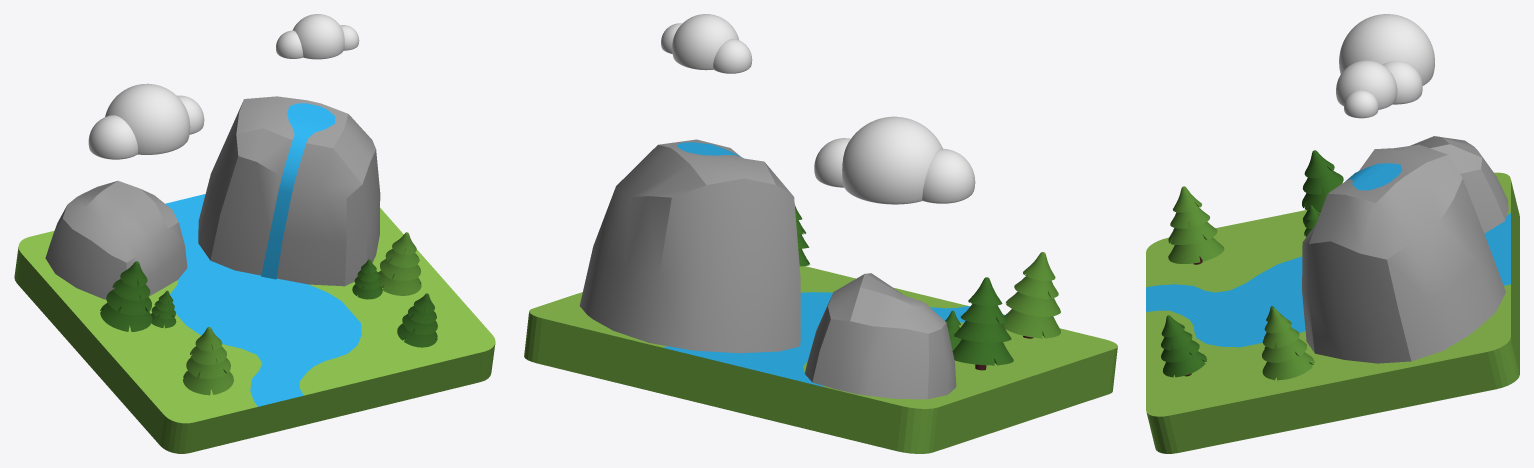
Rendered from national_park.glb.
The picture shows the model from 3 angles, left to right: view 1: azimuth 30°, elevation 25°; view 2: azimuth 150°, elevation 25°; view 3: azimuth 270°, elevation 25°; orthographic projection. The views are drawn at different scales.
Parts seen in each view (by area): view 1: Plane.225, Cube.463, Cube.464, Circle.2338, Circle.2341, Circle.2340, Circle.2342, Circle.2339, Circle.2337; view 2: Plane.225, Cube.463, Cube.464, Circle.2338, Circle.2341; view 3: Plane.225, Cube.463, Cube.464, Circle.2341, Circle.2340, Circle.2342, Circle.2338.
Boxes of the visible parts, box(x1,y1,x2,y2) form: Plane.225: box(14, 96, 495, 453); Cube.463: box(88, 83, 204, 159); Cube.464: box(276, 14, 359, 59); Circle.2338: box(100, 261, 152, 331); Circle.2341: box(183, 327, 233, 395); Circle.2340: box(378, 232, 421, 295); Circle.2342: box(397, 293, 437, 347); Circle.2339: box(352, 259, 382, 299); Circle.2337: box(151, 290, 176, 328); Plane.225: box(524, 139, 1117, 453); Cube.463: box(814, 116, 975, 204); Cube.464: box(661, 14, 752, 73); Circle.2338: box(952, 277, 1013, 370); Circle.2341: box(1002, 252, 1060, 338); Plane.225: box(1146, 136, 1519, 453); Cube.463: box(1339, 14, 1434, 104); Cube.464: box(1336, 60, 1397, 118); Circle.2341: box(1168, 186, 1224, 264); Circle.2340: box(1262, 308, 1314, 380); Circle.2342: box(1161, 315, 1206, 377); Circle.2338: box(1302, 150, 1343, 224).
Size of the model in its own units: 1.95 by 1.77 by 1.73.
1 material, 1 textured.
